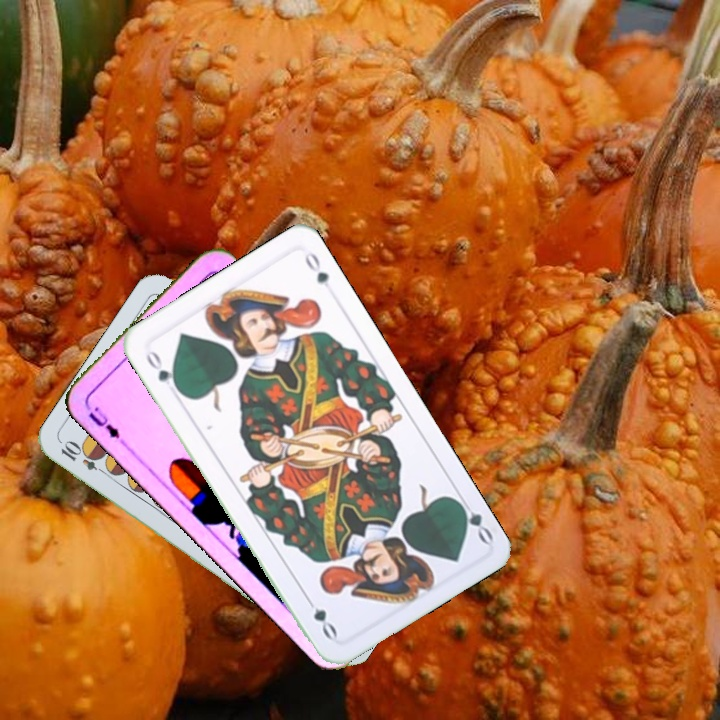E10: (56, 438, 112, 478)
EU: (81, 400, 128, 447)
GO: (452, 492, 496, 546), (142, 344, 183, 395)
